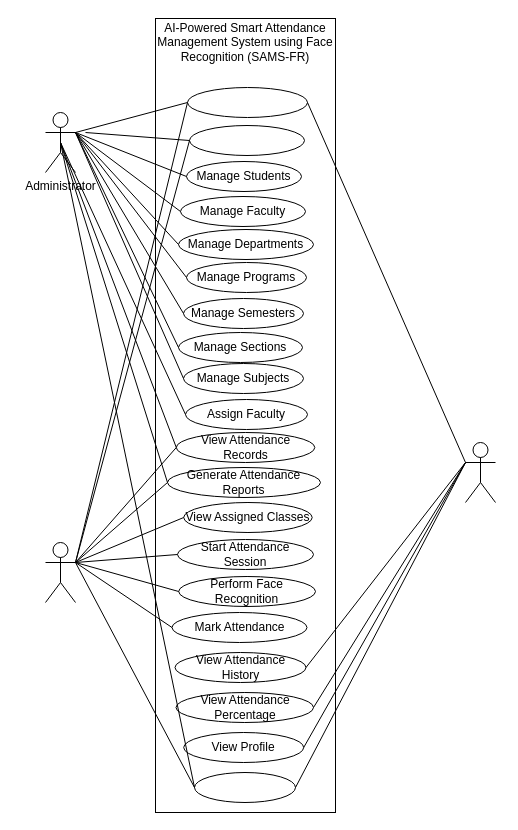
Image size: 518x830. Some labels were removed from this diagram. The shapes that lost their labels are listed below. From the top down, each one's centre as x and y in pixels, then its label:
At point 247,102: "Login".
At point 246,140: "View Dashboard".
At point 480,472: "Student".
At point 60,572: "Faculty Member".
At point 245,787: "Logout".
